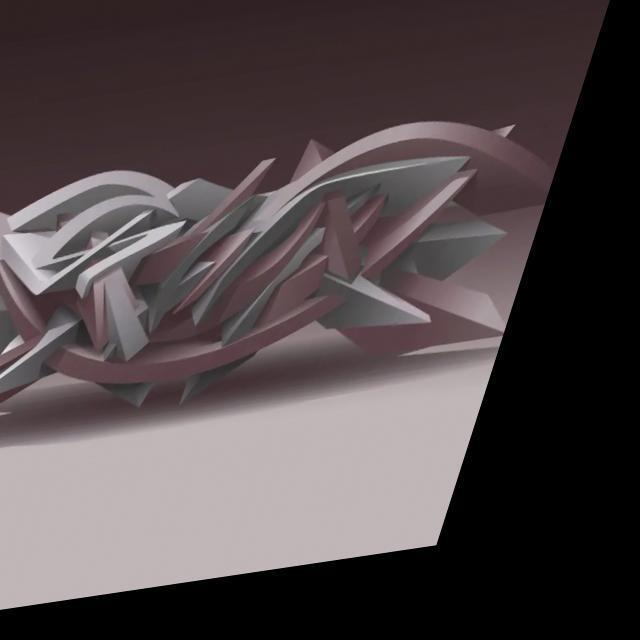-: (0, 73, 602, 507)
